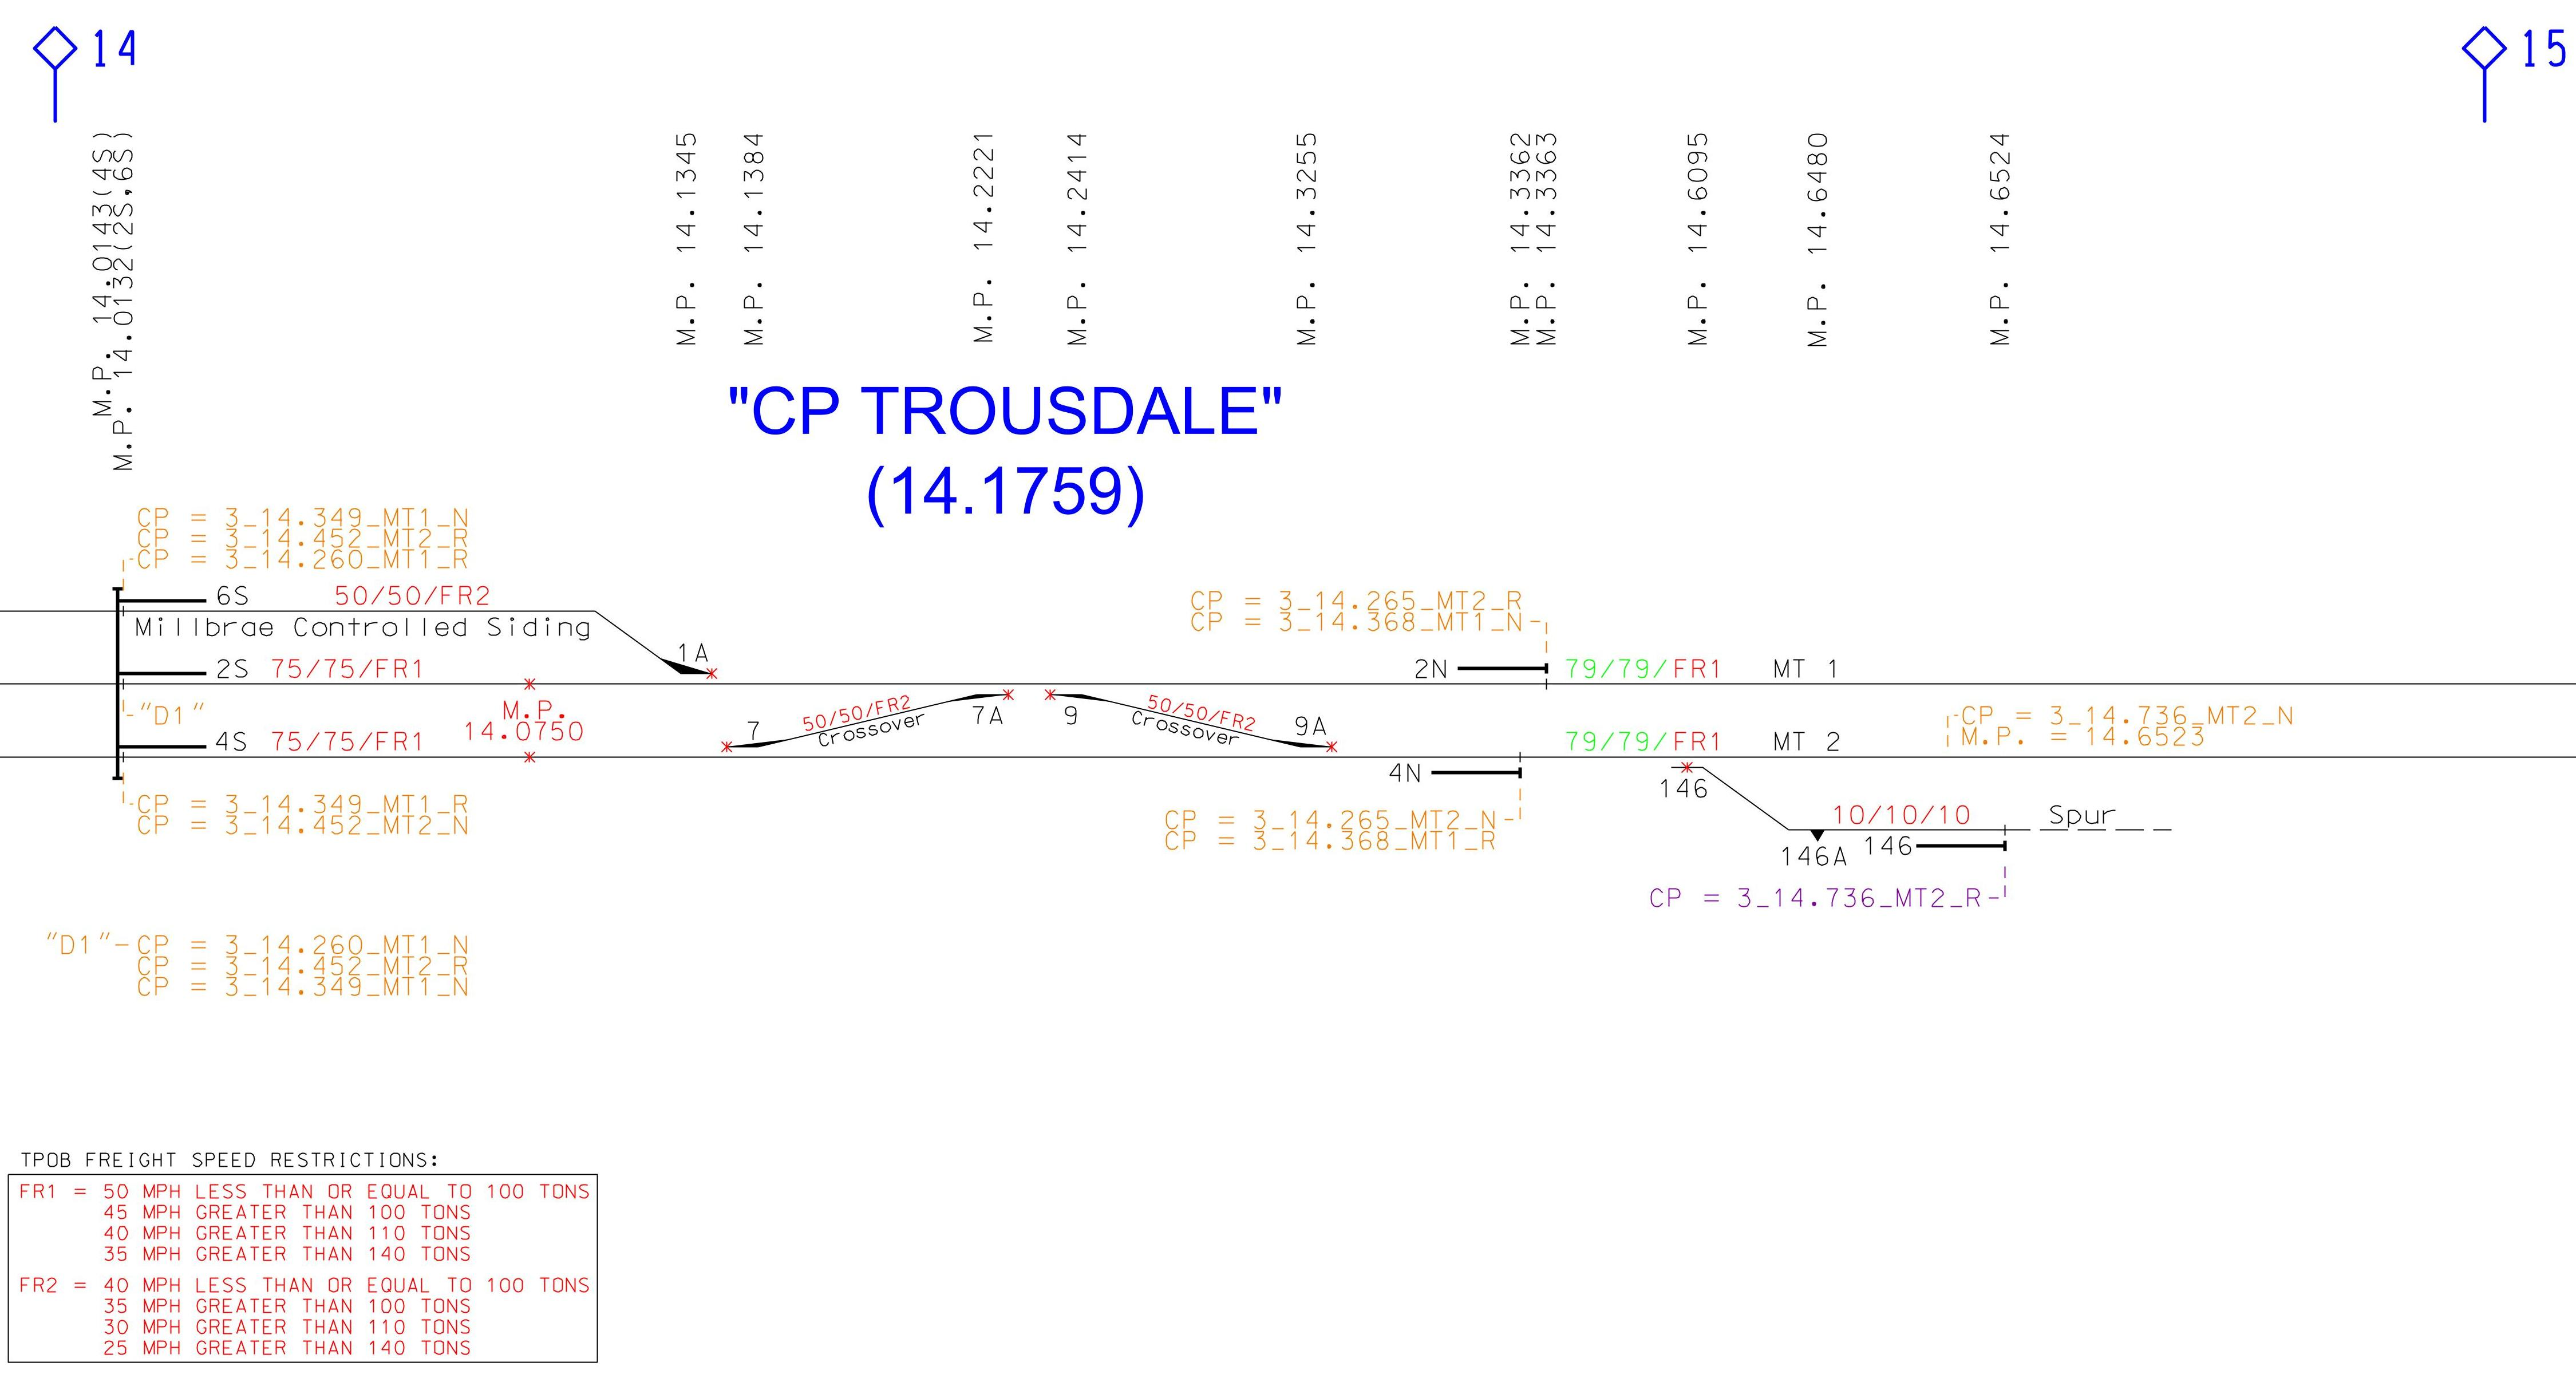leftSignal: (1406, 653, 1562, 697), (1383, 750, 1540, 793), (1860, 820, 2017, 863)
milepost: (733, 123, 772, 361), (1676, 121, 1716, 360), (1980, 121, 2019, 360), (668, 123, 705, 363), (1058, 119, 1095, 360), (1797, 119, 1835, 360), (964, 118, 1002, 356), (1286, 118, 1324, 356)
rightSignal: (106, 648, 262, 692), (111, 580, 267, 622), (107, 726, 264, 769)
switch: (658, 632, 727, 696), (714, 706, 784, 769), (954, 673, 1024, 736), (1034, 673, 1104, 736), (1273, 707, 1343, 771)
